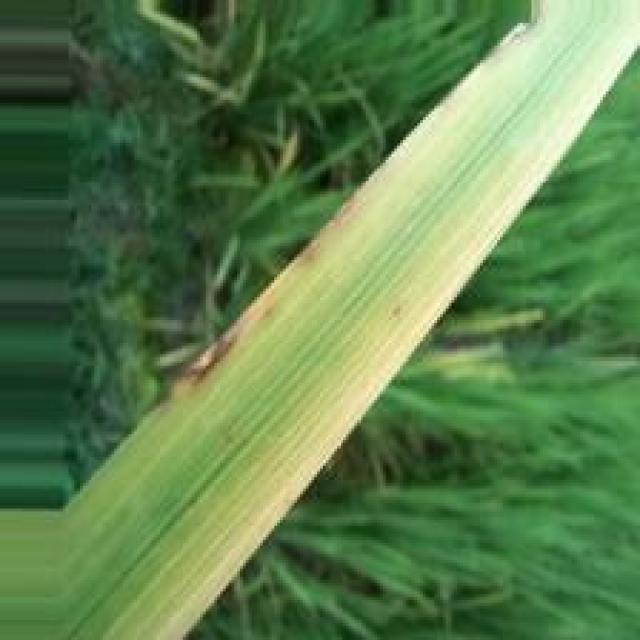Leaf_Blast: (153, 169, 380, 405)
